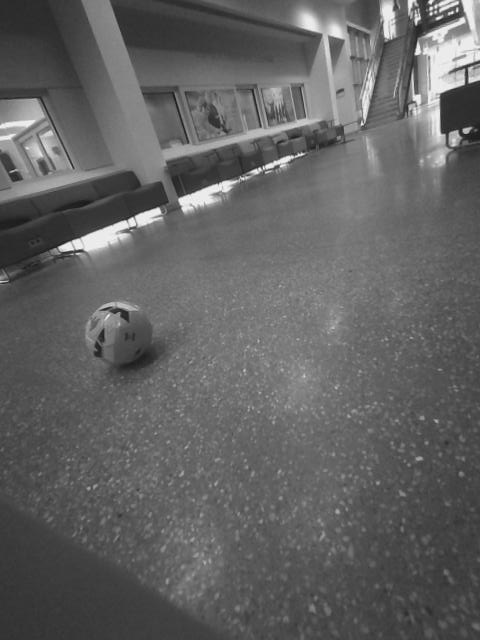ball: (81, 297, 159, 366)
